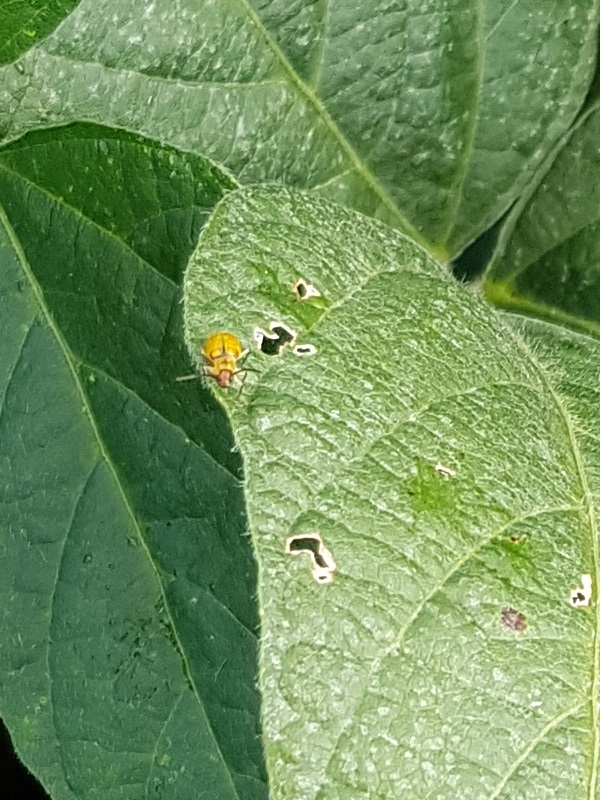Diabrotica_speciosa: (167, 316, 281, 416)
